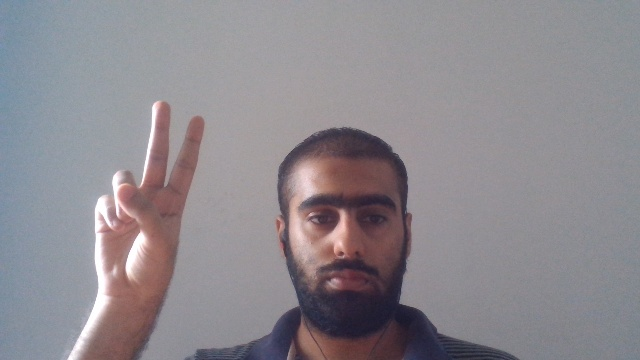scissors: (92, 100, 204, 295)
